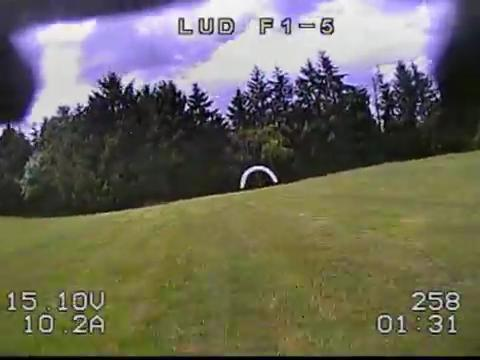gate: (237, 165, 277, 189)
